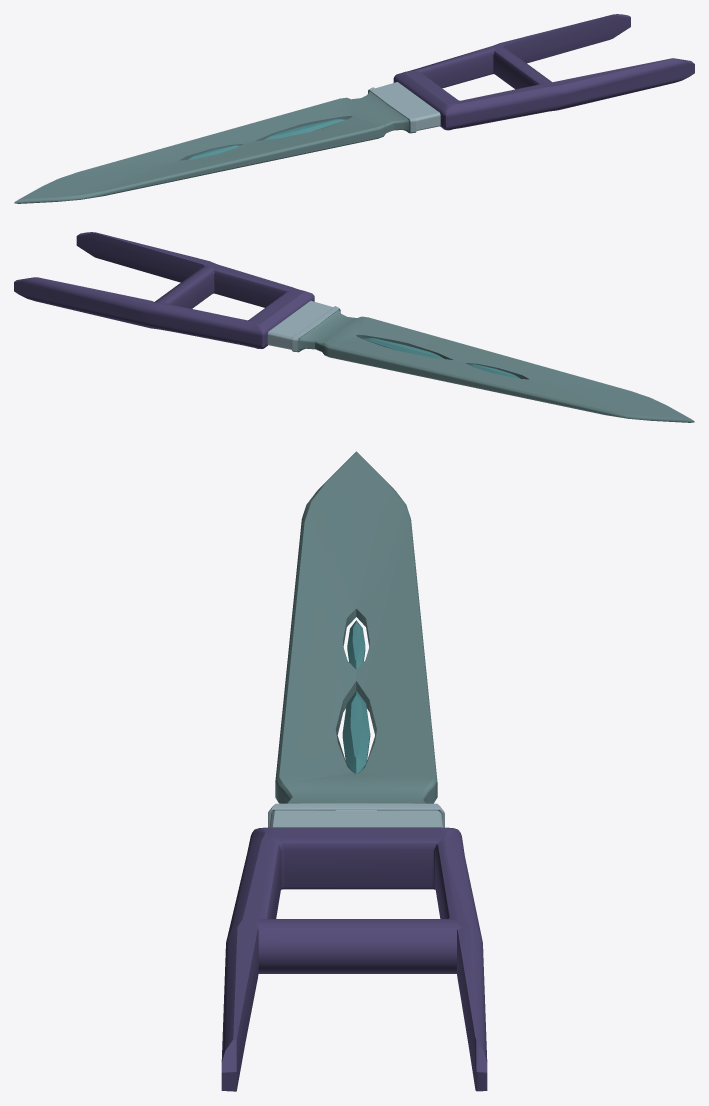
The model's file is katar.glb.
3 renders of one model, top to bottom at view 1: azimuth 30°, elevation 25°; view 2: azimuth 150°, elevation 25°; view 3: azimuth 270°, elevation 25°, orthographic. The views are drawn at different scales.
Parts seen in each view (by area): view 1: polySurface2.001, polySurface1, pCylinder4; view 2: polySurface2.001, polySurface1, pCylinder4; view 3: polySurface2.001, polySurface1, pCylinder4.
Boxes of the visible parts, x1,y1,x2,y2 form: polySurface2.001: [14, 82, 440, 203]; polySurface1: [393, 14, 694, 130]; pCylinder4: [264, 119, 346, 139]; polySurface2.001: [267, 301, 694, 422]; polySurface1: [14, 232, 314, 348]; pCylinder4: [362, 338, 443, 358]; polySurface2.001: [268, 451, 444, 827]; polySurface1: [221, 827, 487, 1091]; pCylinder4: [342, 691, 370, 773].
Bounding box in the file's own units: 0.5782 × 0.021 × 0.1027.
